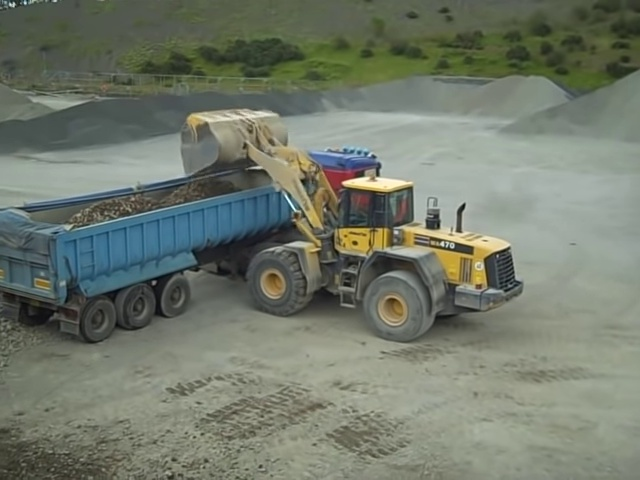truck: (7, 147, 383, 341)
wheel loader: (174, 105, 524, 340)
